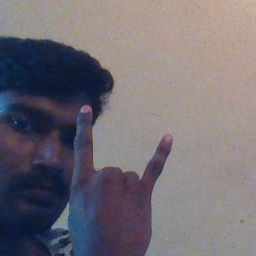V: (67, 102, 177, 256)
